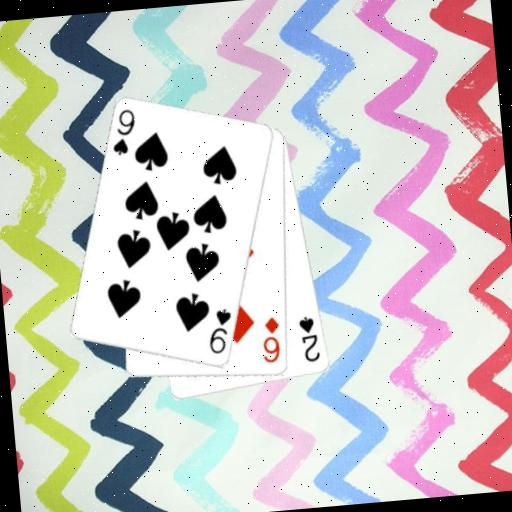2S: (296, 313, 323, 365)
6D: (257, 314, 284, 366)
9S: (204, 305, 237, 357), (107, 106, 140, 158)
